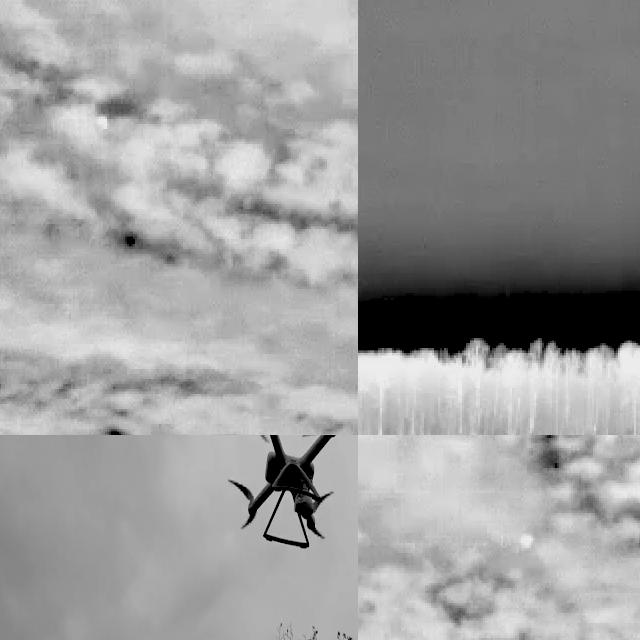0: (513, 526, 551, 558), (87, 112, 129, 136)
drone: (234, 435, 341, 551)
